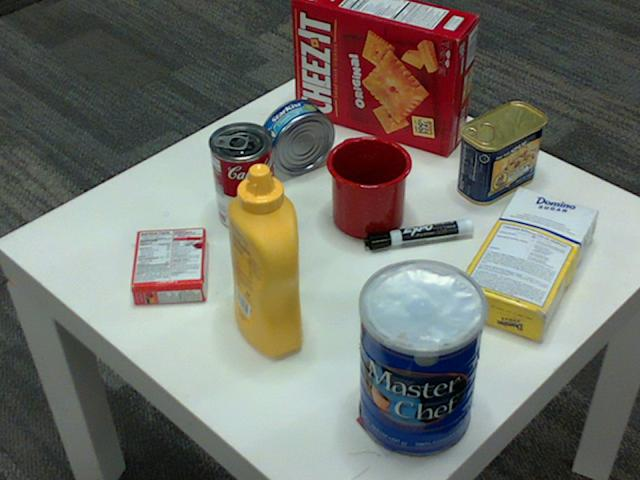cracker_box: (293, 0, 477, 155)
gelatin_box: (127, 226, 204, 304)
large_marker: (365, 222, 474, 249)
master_chef_can: (359, 261, 488, 459)
mug: (324, 134, 410, 238)
mustard_bottle: (226, 164, 301, 357)
potted_meat_can: (457, 103, 545, 205)
sugar_box: (452, 186, 596, 343)
tomato_soup_can: (208, 122, 275, 232)
tuna_fish_can: (258, 98, 333, 174)
